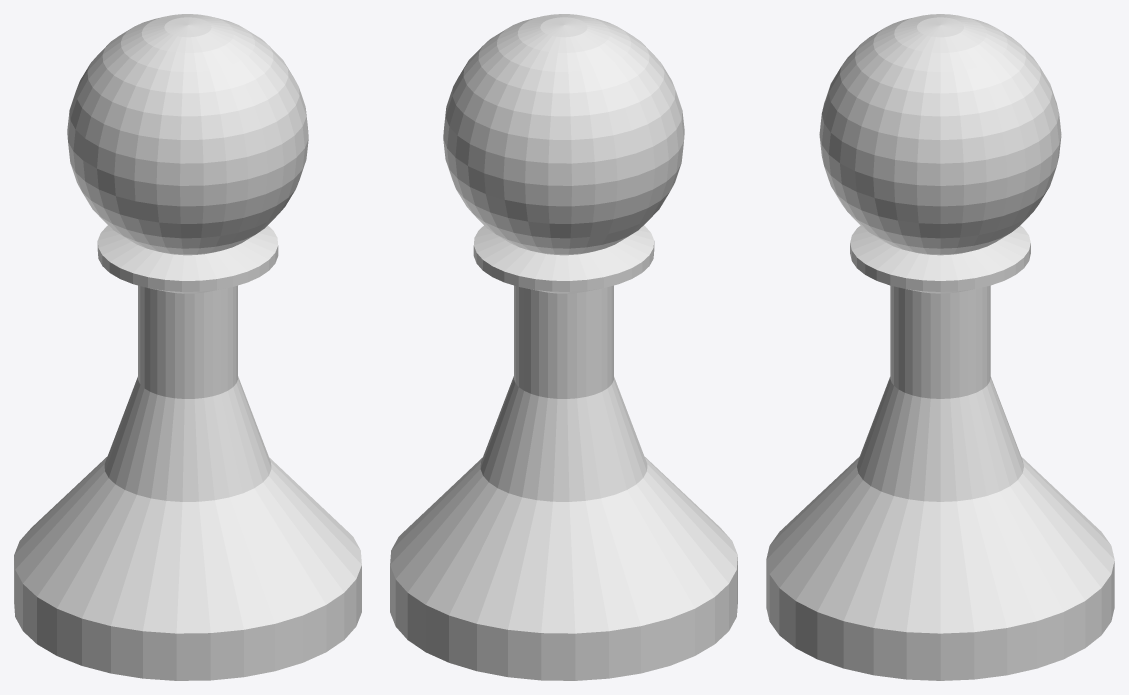
The model's file is pawn.obj.
The picture shows the model from 3 angles, left to right: view 1: azimuth 30°, elevation 25°; view 2: azimuth 150°, elevation 25°; view 3: azimuth 270°, elevation 25°; orthographic projection.
Parts seen in each view (by area): view 1: pawn; view 2: pawn; view 3: pawn.
Part boxes in pixels (bbox=[...]): pawn: bbox=[14, 14, 361, 680]; pawn: bbox=[390, 14, 737, 680]; pawn: bbox=[766, 14, 1114, 680].
Bounding box in the file's own units: 2.3 × 4.25 × 2.3.
Materials: 1 (1 with a texture image).
